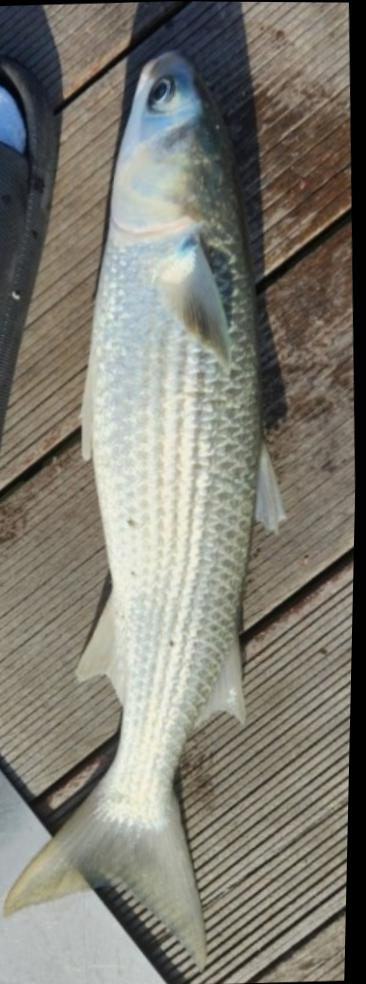fish: (8, 48, 267, 983)
